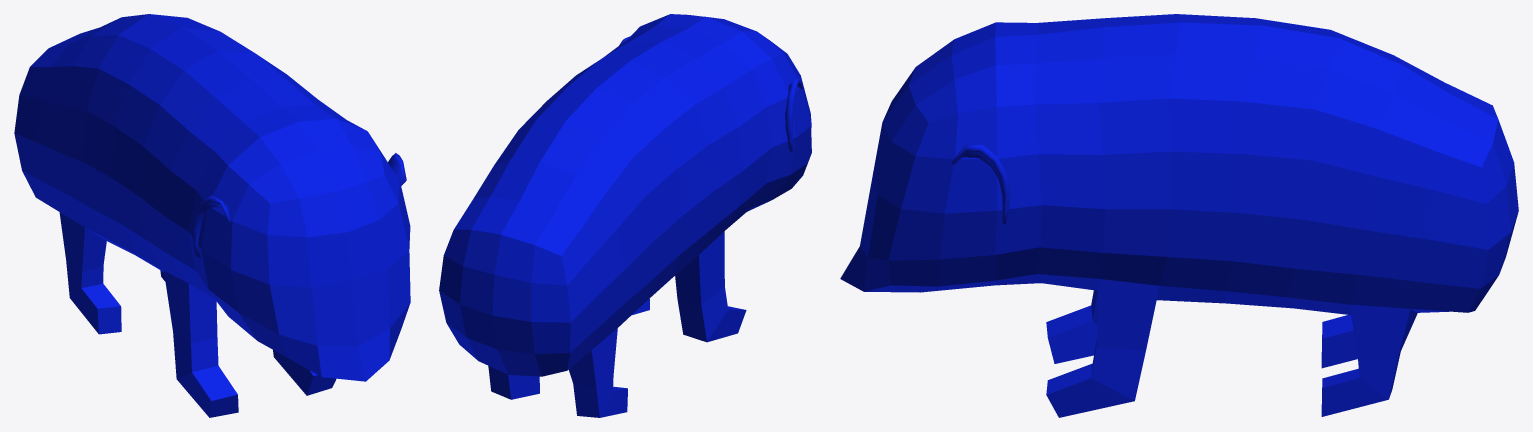
Rendered from hedgehog2 1.fbx.
The picture shows the model from 3 angles, left to right: view 1: azimuth 30°, elevation 25°; view 2: azimuth 150°, elevation 25°; view 3: azimuth 270°, elevation 25°; orthographic projection. The views are drawn at different scales.
Visible parts, largest first — view 1: Sonic; view 2: Sonic; view 3: Sonic.
Boxes of the visible parts, x1,y1,x2,y2 form: Sonic: [14, 14, 410, 417]; Sonic: [439, 14, 811, 417]; Sonic: [840, 14, 1518, 417].
Size of the model in its own units: 144 by 220 by 370.
